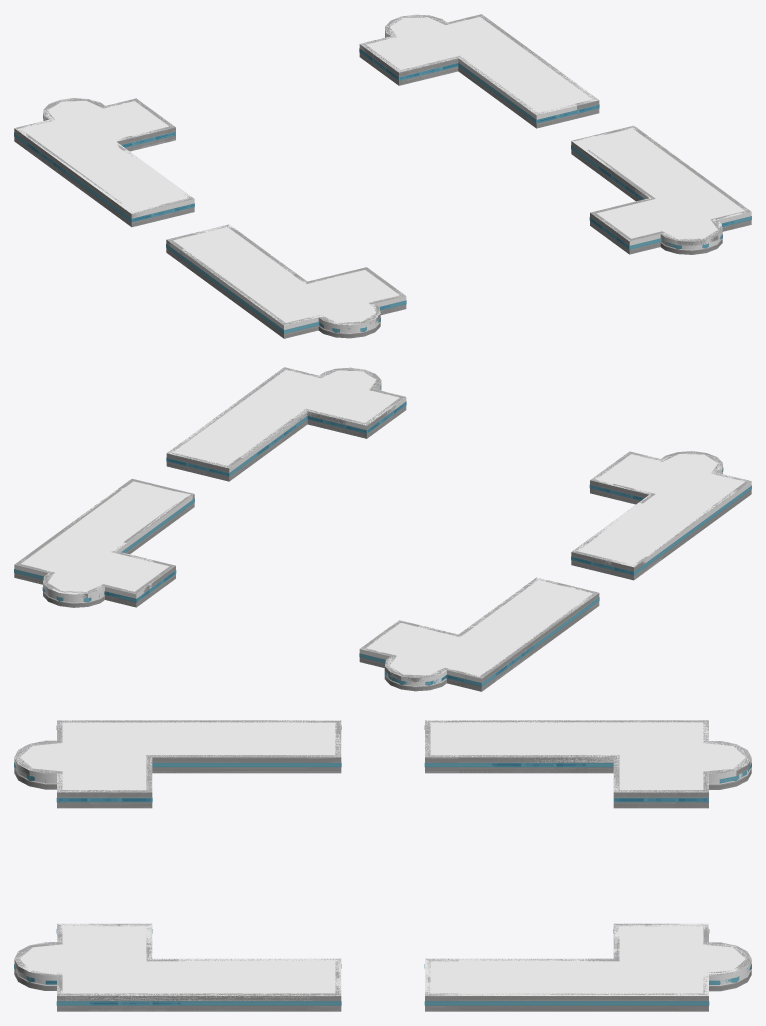
The model's file is objects_un_c02flowerbed01.gltf.
The picture shows the model from 3 angles, top to bottom: view 1: azimuth 30°, elevation 25°; view 2: azimuth 150°, elevation 25°; view 3: azimuth 270°, elevation 25°; orthographic projection. The views are drawn at different scales.
Visible parts, largest first — view 1: um_objects_un_c02flowerbed01_model_lod1Shape:objects_un_c02s, um_objects_un_c02flowerbed01_model_lod2Shape:objects_un_c02s, um_objects_un_c02flowerbed01_model_lod0Shape:objects_un_c02f (×2), um_objects_un_c02flowerbed01_model_lod1Shape:objects_un_c02f, um_objects_un_c02flowerbed01_model_lod2Shape:objects_un_c02f; view 2: um_objects_un_c02flowerbed01_model_lod1Shape:objects_un_c02s, um_objects_un_c02flowerbed01_model_lod2Shape:objects_un_c02s, um_objects_un_c02flowerbed01_model_lod0Shape:objects_un_c02f (×2), um_objects_un_c02flowerbed01_model_lod1Shape:objects_un_c02f, um_objects_un_c02flowerbed01_model_lod2Shape:objects_un_c02f; view 3: um_objects_un_c02flowerbed01_model_lod1Shape:objects_un_c02s, um_objects_un_c02flowerbed01_model_lod2Shape:objects_un_c02s, um_objects_un_c02flowerbed01_model_lod0Shape:objects_un_c02f (×2), um_objects_un_c02flowerbed01_model_lod2Shape:objects_un_c02f, um_objects_un_c02flowerbed01_model_lod1Shape:objects_un_c02f.
Part boxes in pixels (bbox=[...]): um_objects_un_c02flowerbed01_model_lod1Shape:objects_un_c02s: bbox=[21, 17, 744, 322]; um_objects_un_c02flowerbed01_model_lod2Shape:objects_un_c02s: bbox=[31, 16, 750, 325]; um_objects_un_c02flowerbed01_model_lod0Shape:objects_un_c02f (×2): bbox=[14, 14, 751, 338]; um_objects_un_c02flowerbed01_model_lod1Shape:objects_un_c02f: bbox=[14, 15, 751, 338]; um_objects_un_c02flowerbed01_model_lod2Shape:objects_un_c02f: bbox=[14, 31, 751, 333]; um_objects_un_c02flowerbed01_model_lod1Shape:objects_un_c02s: bbox=[21, 370, 732, 675]; um_objects_un_c02flowerbed01_model_lod2Shape:objects_un_c02s: bbox=[21, 368, 749, 677]; um_objects_un_c02flowerbed01_model_lod0Shape:objects_un_c02f (×2): bbox=[14, 367, 751, 691]; um_objects_un_c02flowerbed01_model_lod1Shape:objects_un_c02f: bbox=[14, 368, 751, 688]; um_objects_un_c02flowerbed01_model_lod2Shape:objects_un_c02f: bbox=[14, 384, 751, 690]; um_objects_un_c02flowerbed01_model_lod1Shape:objects_un_c02s: bbox=[20, 722, 745, 993]; um_objects_un_c02flowerbed01_model_lod2Shape:objects_un_c02s: bbox=[16, 720, 750, 995]; um_objects_un_c02flowerbed01_model_lod0Shape:objects_un_c02f (×2): bbox=[14, 720, 751, 1011]; um_objects_un_c02flowerbed01_model_lod2Shape:objects_un_c02f: bbox=[14, 725, 751, 1011]; um_objects_un_c02flowerbed01_model_lod1Shape:objects_un_c02f: bbox=[14, 720, 750, 1011].
Size of the model in its own units: 27.37 by 0.7345 by 30.96.
Materials: 3 (1 with a texture image).
